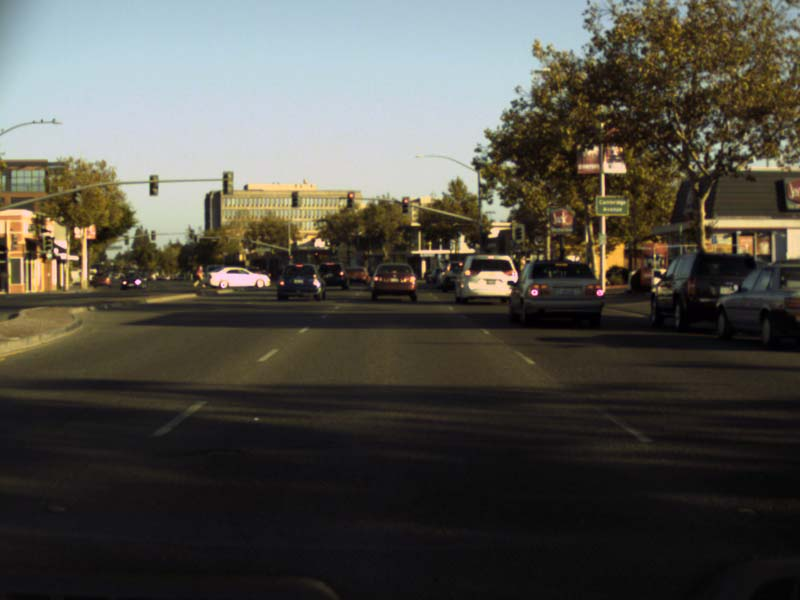Red: (402, 197, 408, 212), (348, 193, 352, 207)
